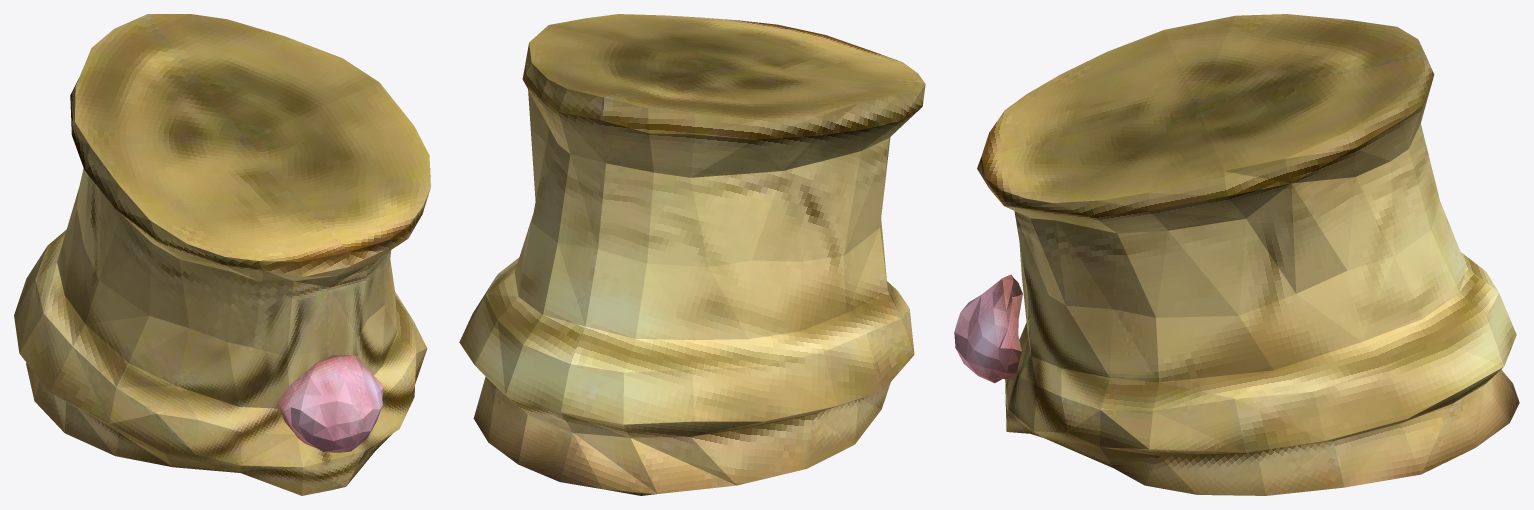
File: ewm_t2annunaki_hat.glb
3 views of the same model, side by side, from view 1: azimuth 30°, elevation 25°; view 2: azimuth 150°, elevation 25°; view 3: azimuth 270°, elevation 25° (orthographic). The views are drawn at different scales.
Parts seen in each view (by area): view 1: ewm_t2annunaki_hat; view 2: ewm_t2annunaki_hat; view 3: ewm_t2annunaki_hat.
Part boxes in pixels (x1=…): ewm_t2annunaki_hat: x1=14, y1=14, x2=430, y2=495; ewm_t2annunaki_hat: x1=459, y1=14, x2=925, y2=495; ewm_t2annunaki_hat: x1=954, y1=14, x2=1519, y2=495.
Size of the model in its own units: 0.2742 by 0.2587 by 0.3545.
Materials: 1 (1 with a texture image).
